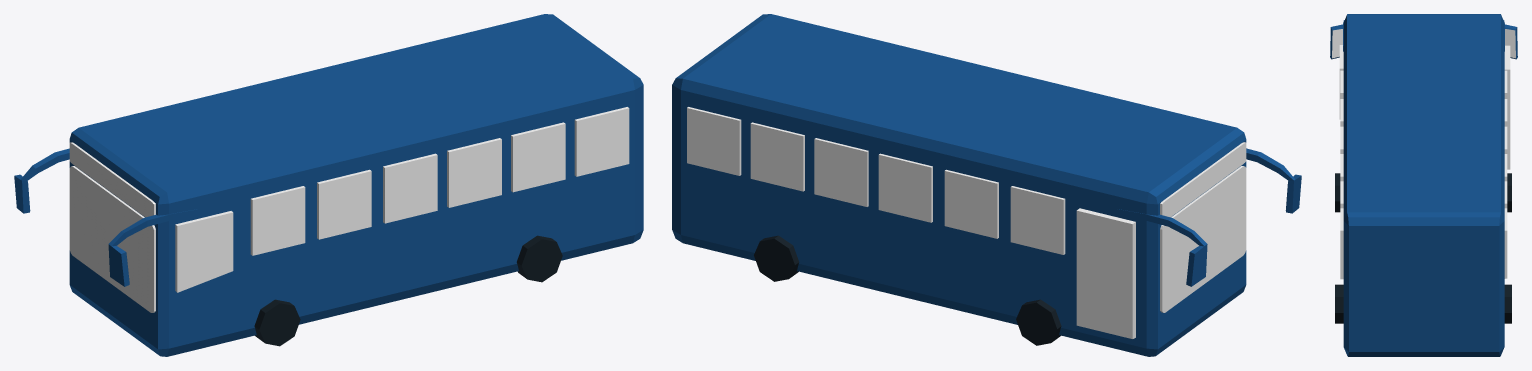
The model's file is AntonioCenarioFase1.fbx_Onibus.fbx.
3 views of the same model, side by side, from view 1: azimuth 30°, elevation 25°; view 2: azimuth 150°, elevation 25°; view 3: azimuth 270°, elevation 25° (orthographic). The views are drawn at different scales.
Visible parts, largest first — view 1: Onibus; view 2: Onibus; view 3: Onibus.
Part boxes in pixels (<box>): Onibus: <box>14,14,643,356</box>; Onibus: <box>672,14,1301,356</box>; Onibus: <box>1330,14,1517,356</box>.
Bounding box in the file's own units: 1868 × 582 × 652.
